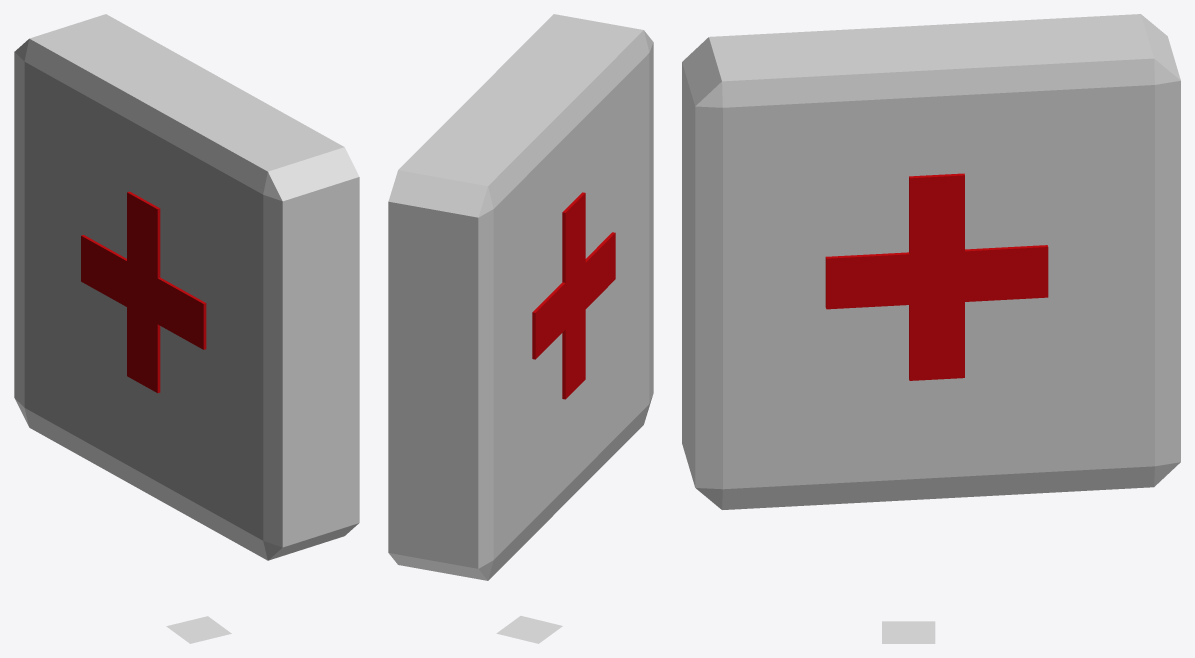
The model's file is healthpack.fbx.
The picture shows the model from 3 angles, left to right: view 1: azimuth 30°, elevation 25°; view 2: azimuth 150°, elevation 25°; view 3: azimuth 270°, elevation 25°; orthographic projection. The views are drawn at different scales.
Parts seen in each view (by area): view 1: Plane, Plane.001; view 2: Plane, Plane.001; view 3: Plane, Plane.001.
Part boxes in pixels (x1=…): Plane: x1=14, y1=14, x2=359, y2=560; Plane.001: x1=166, y1=616, x2=231, y2=643; Plane: x1=388, y1=14, x2=653, y2=580; Plane.001: x1=496, y1=616, x2=562, y2=643; Plane: x1=682, y1=14, x2=1180, y2=509; Plane.001: x1=882, y1=621, x2=935, y2=643.
Bounding box in the file's own units: 83.89 × 313 × 243.
